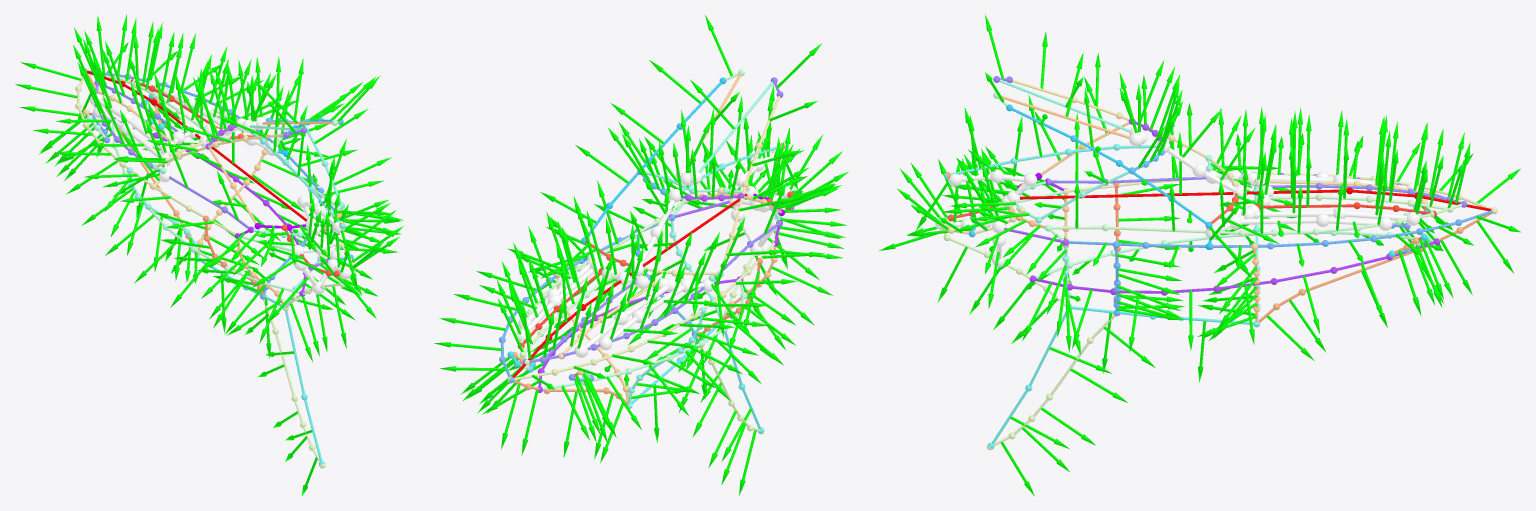
The model's file is ils_boat.gltf.
3 views of the same model, side by side, from view 1: azimuth 30°, elevation 25°; view 2: azimuth 150°, elevation 25°; view 3: azimuth 270°, elevation 25° (orthographic). The views are drawn at different scales.
Size of the model in its own units: 0.4348 by 0.7149 by 0.919.
